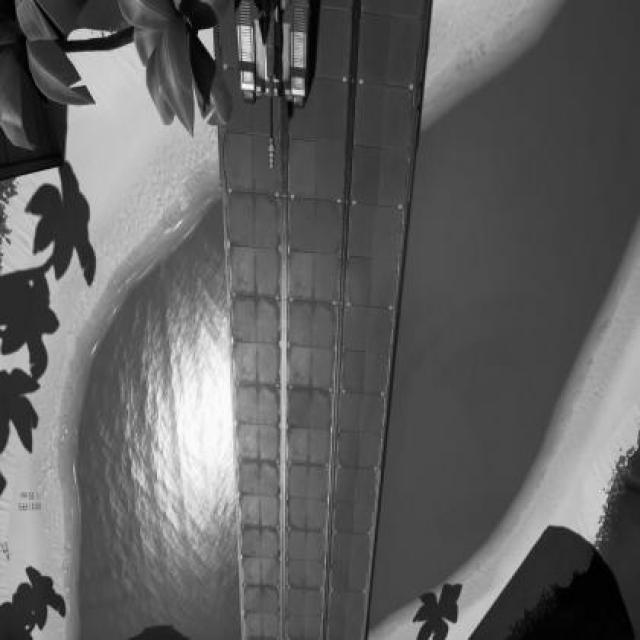tank: (235, 0, 311, 165)
